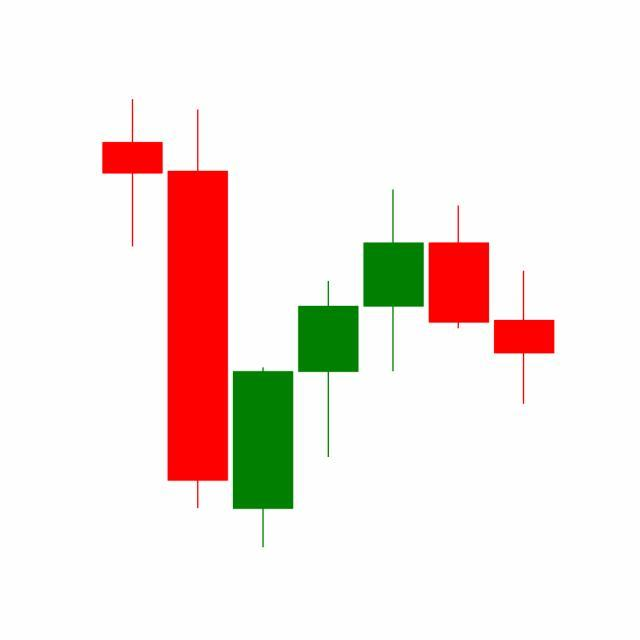Hikkake Pattern: (229, 185, 555, 549)
